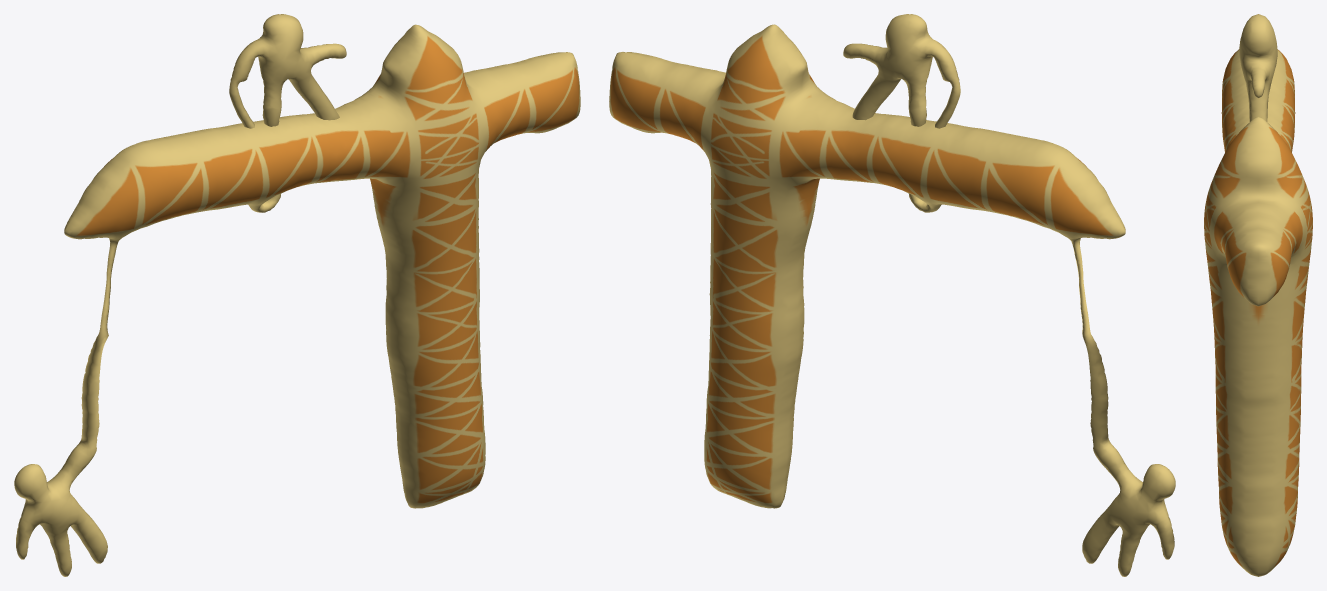
File: Crane15.glb
3 renders of one model, left to right at view 1: azimuth 30°, elevation 25°; view 2: azimuth 150°, elevation 25°; view 3: azimuth 270°, elevation 25°, orthographic. The views are drawn at different scales.
Bounding box in the file's own units: 8.25 × 7.37 × 1.51.
1 material, 1 textured.
